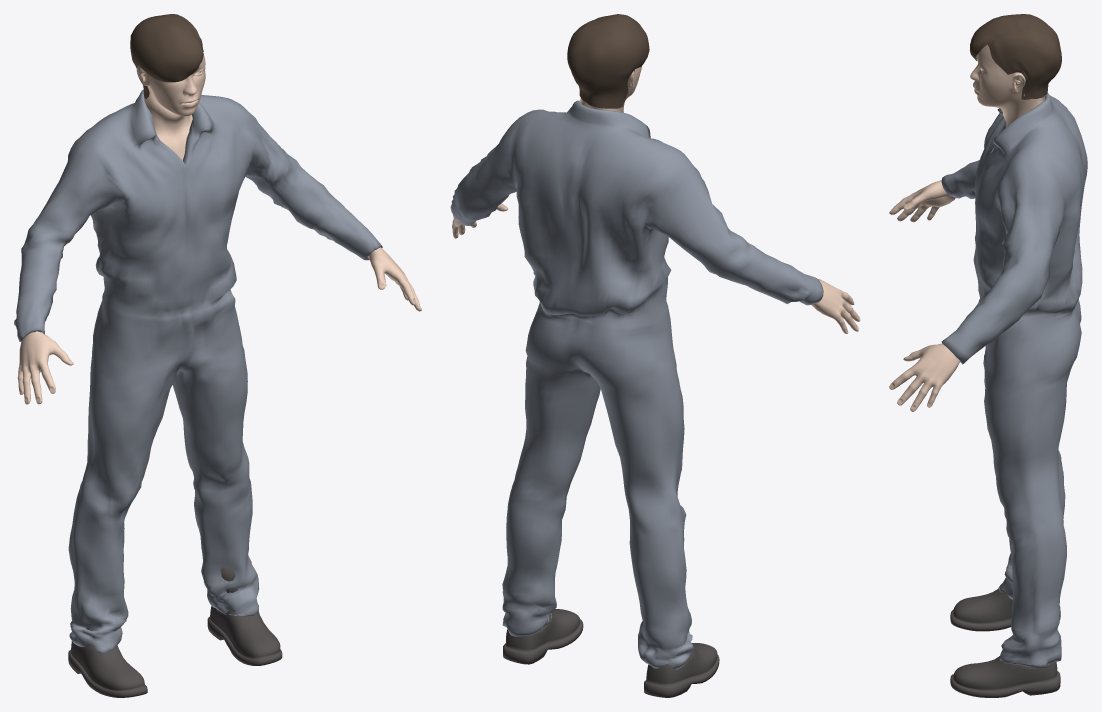
The model's file is omniro_character.fbx.
3 views of the same model, side by side, from view 1: azimuth 30°, elevation 25°; view 2: azimuth 150°, elevation 25°; view 3: azimuth 270°, elevation 25° (orthographic).
Parts seen in each view (by area): view 1: OmniroCharacter; view 2: OmniroCharacter; view 3: OmniroCharacter.
Part boxes in pixels (x1,y1,x2,y2): OmniroCharacter: (14, 14, 421, 697); OmniroCharacter: (450, 14, 860, 697); OmniroCharacter: (889, 14, 1087, 697).
Bounding box in the file's own units: 111 × 172 × 48.6.
